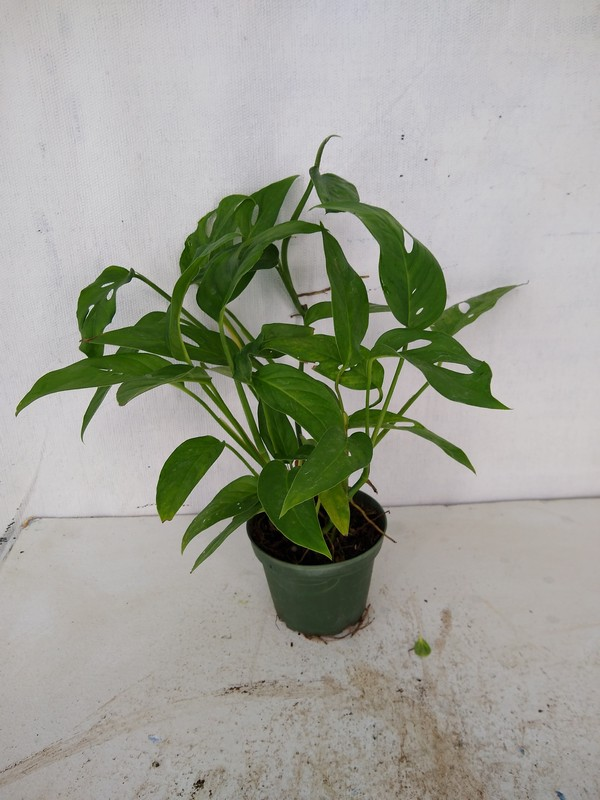plant: (11, 135, 532, 571)
pot: (244, 483, 391, 640)
